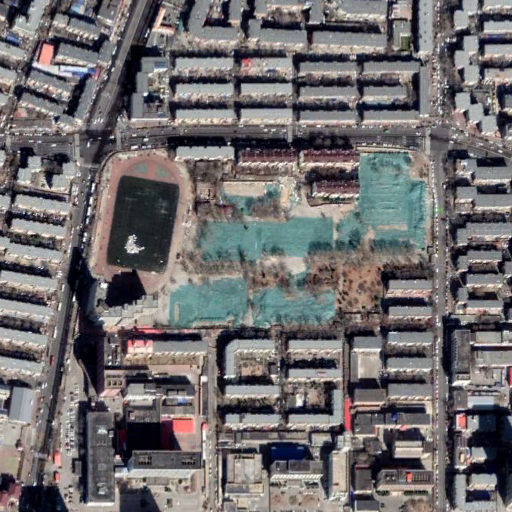cw: (171, 150, 425, 331)
